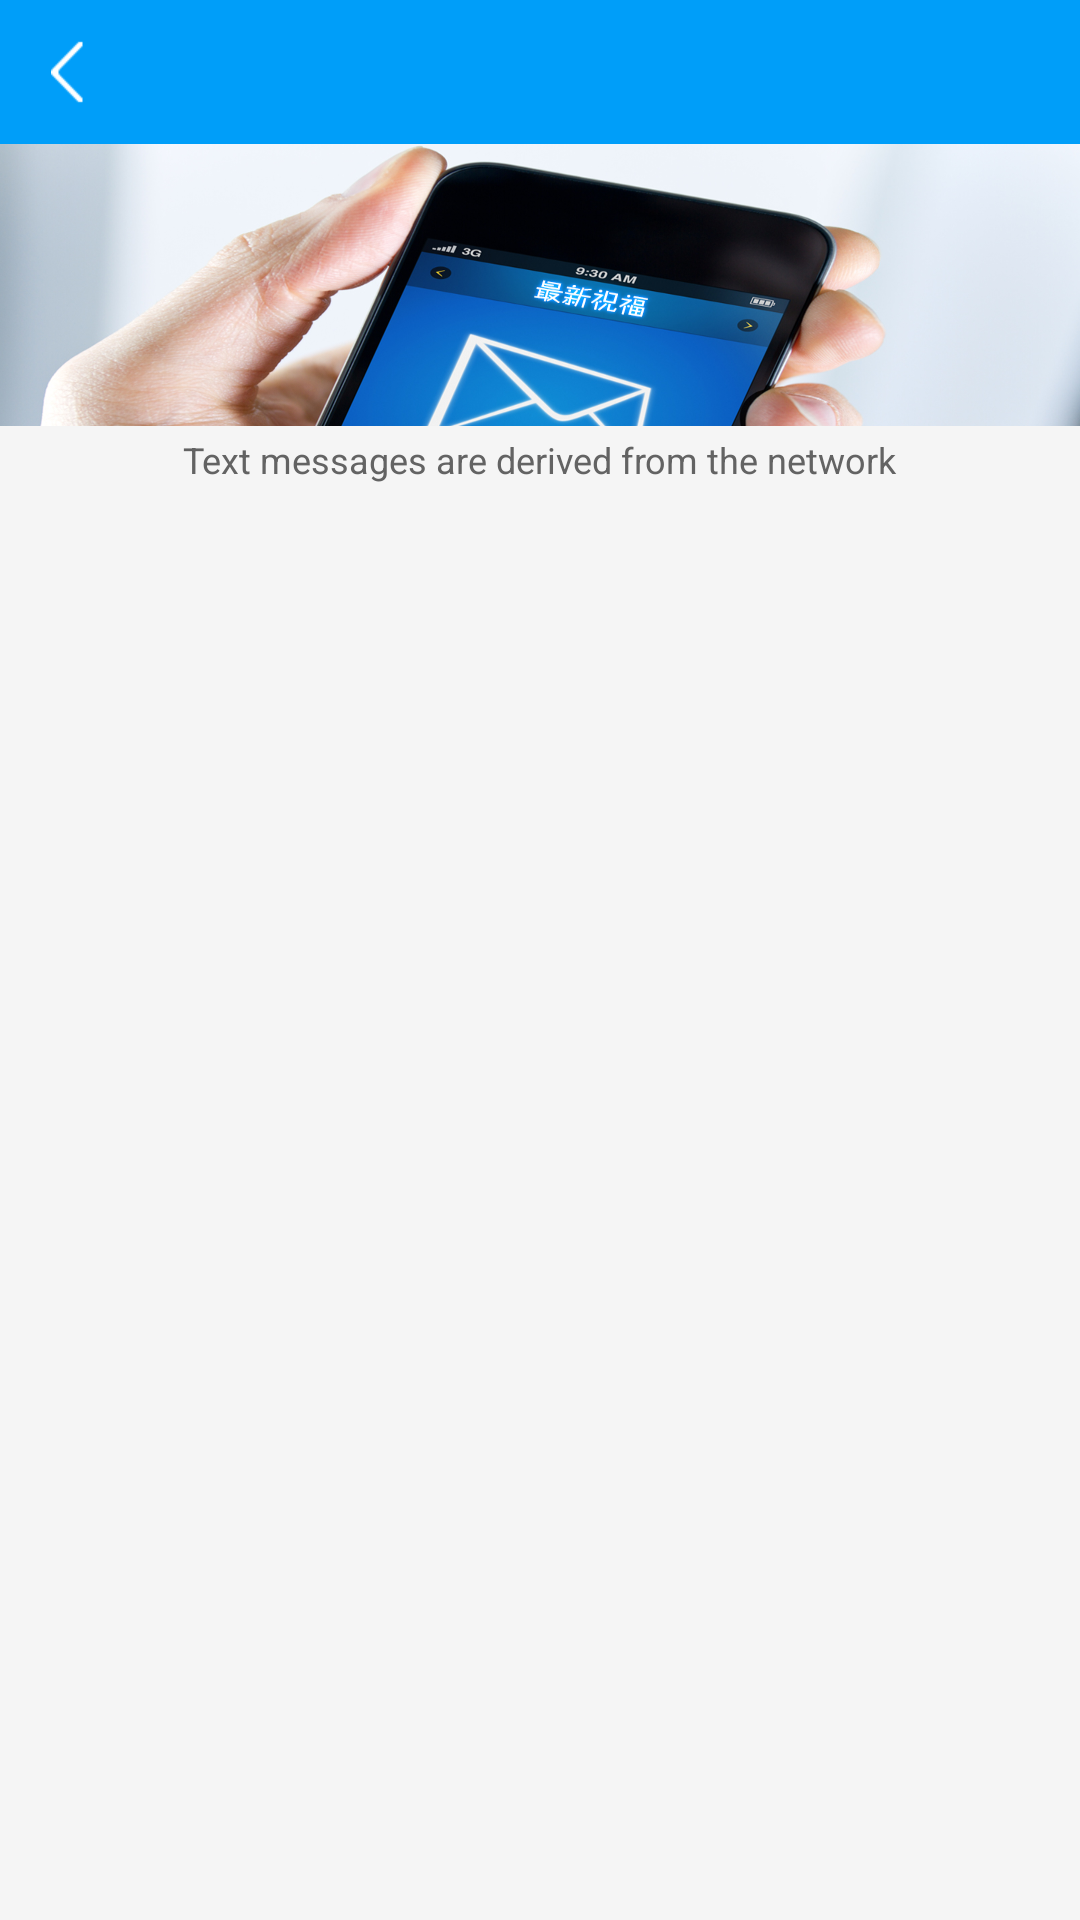

Where icons sit on this 1080px×1920px app screen, as [x1,y1,x2,y2]:
back: [51,41,83,103]
